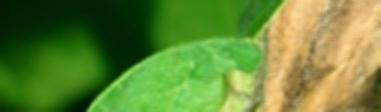Tomato leaf late blight: (42, 0, 381, 112)
